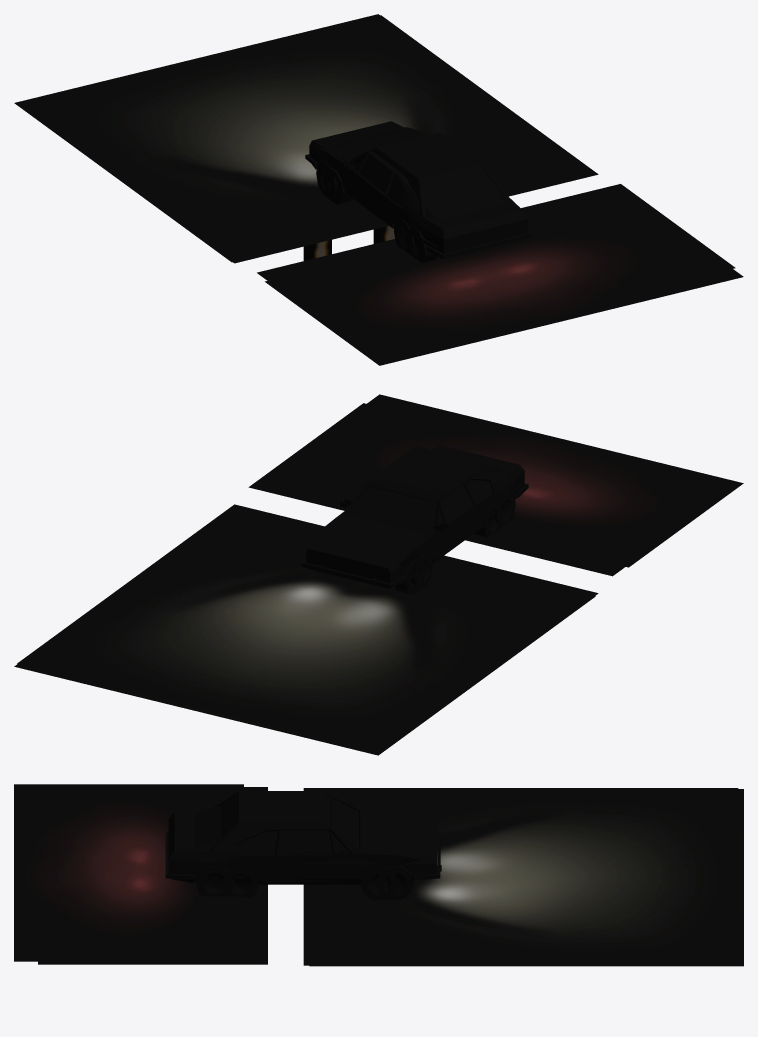
Rendered from Obj_CopCar.fbx.
The picture shows the model from 3 angles, top to bottom: view 1: azimuth 30°, elevation 25°; view 2: azimuth 150°, elevation 25°; view 3: azimuth 270°, elevation 25°; orthographic projection.
Parts seen in each view (by area): view 1: ProjectedLight, DefaultCar, Obj_CarCoupe01, Obj_CarCoupe01_ProjectedLight, Obj_CarCoupe01_Reflections; view 2: ProjectedLight, DefaultCar, Obj_CarCoupe01, Obj_CarCoupe01_ProjectedLight; view 3: ProjectedLight, DefaultCar, Obj_CarCoupe01, Obj_CarCoupe01_ProjectedLight.
Boxes of the visible parts, x1,y1,x2,y2 form: ProjectedLight: (17,15,743,365); DefaultCar: (305,121,531,262); Obj_CarCoupe01: (312,127,505,253); Obj_CarCoupe01_ProjectedLight: (14,14,735,280); Obj_CarCoupe01_Reflections: (303,226,394,260); ProjectedLight: (17,394,743,752); DefaultCar: (302,445,528,595); Obj_CarCoupe01: (315,467,521,590); Obj_CarCoupe01_ProjectedLight: (14,403,625,755); ProjectedLight: (14,784,738,965); DefaultCar: (165,791,441,900); Obj_CarCoupe01: (181,793,427,900); Obj_CarCoupe01_ProjectedLight: (38,787,743,966).
Bounding box in the file's own units: 8.33 × 4.16 × 14.32.
4 materials, 2 textured.
